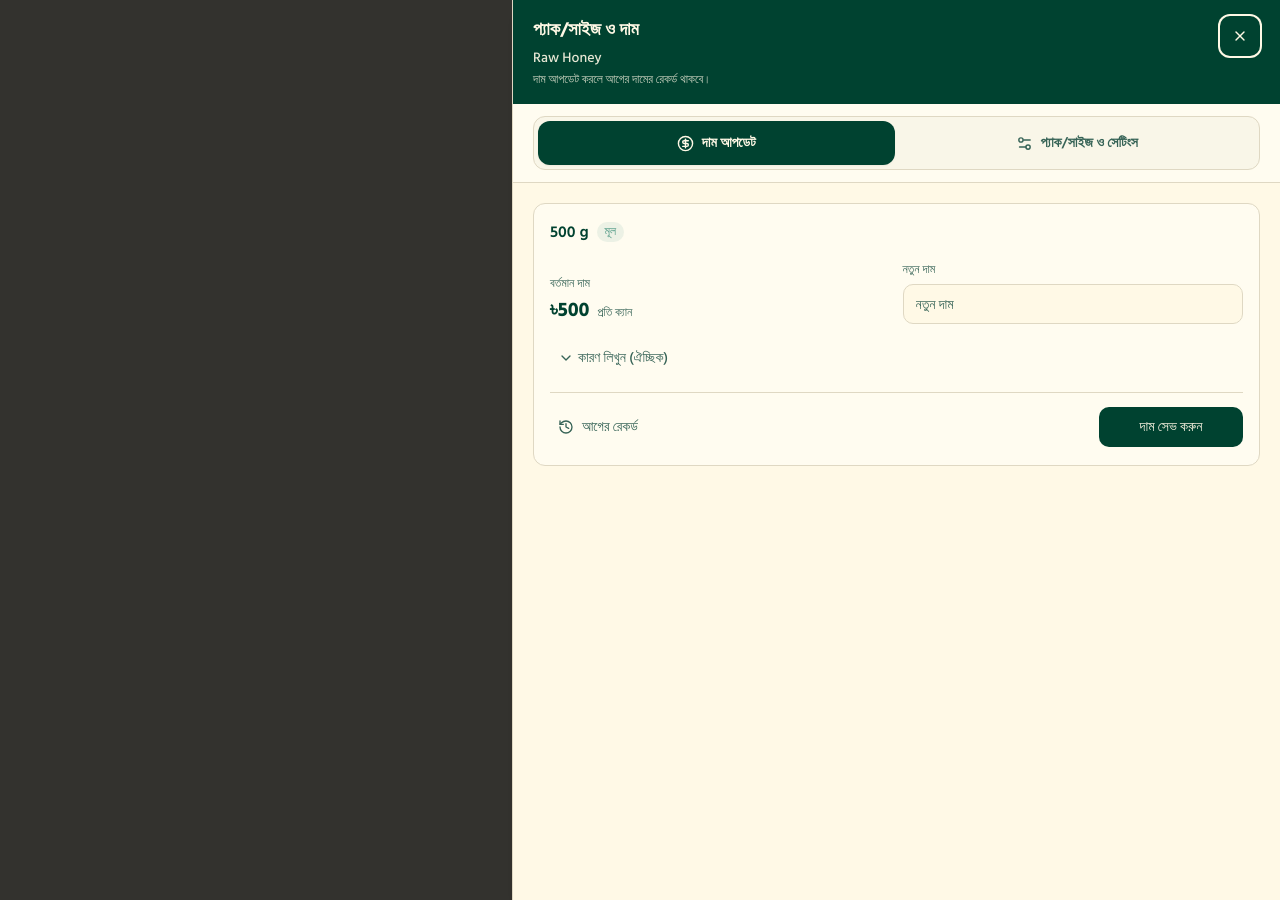
Test: price-first pack/size drawer › saves one selling price without loading history automatically
Type "550" into the number field labelled "নতুন দাম".
click(1073, 304); type("550")  # box [902,284,1243,324]
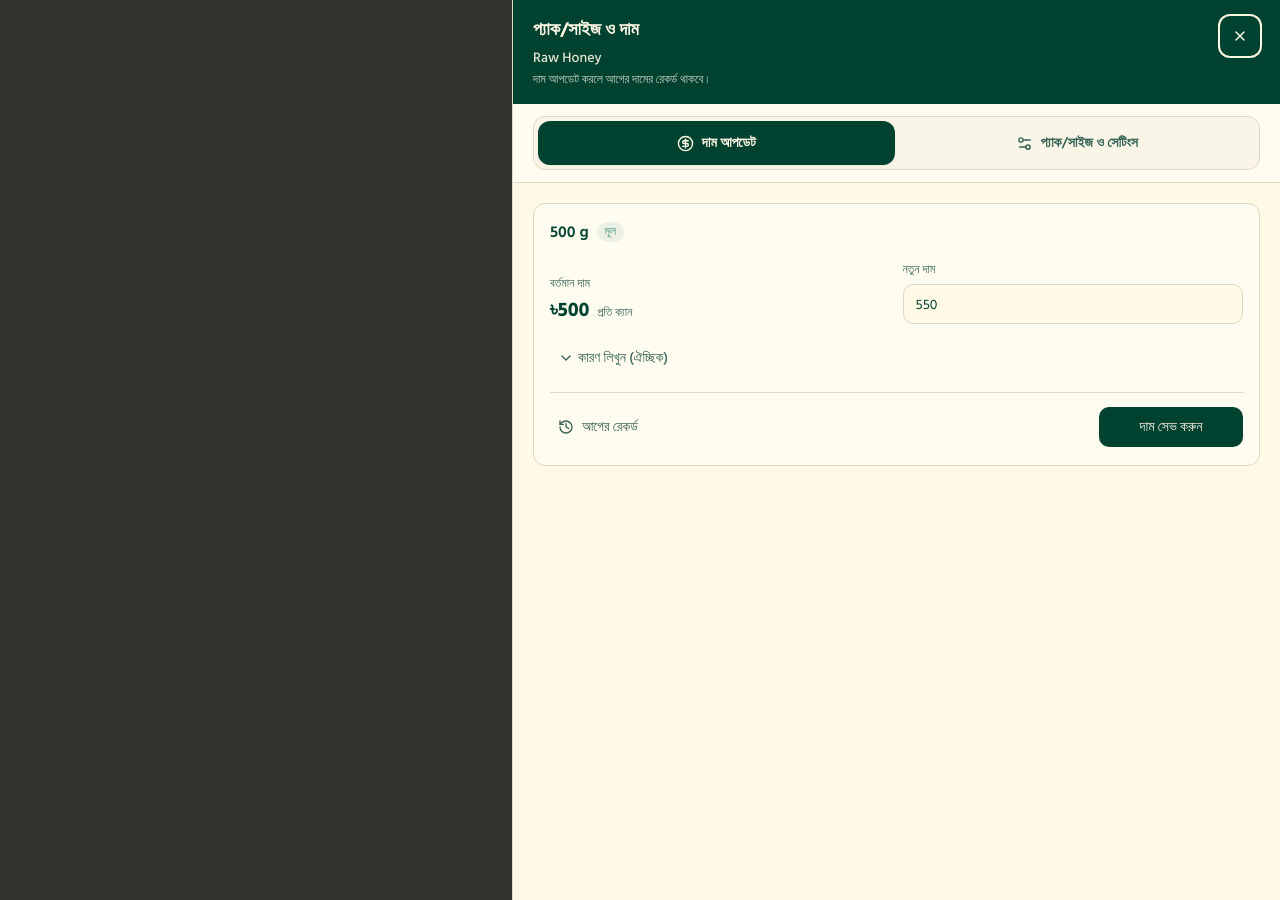
Click the button "দাম সেভ করুন".
click(1171, 427)  # box [1099,407,1243,447]
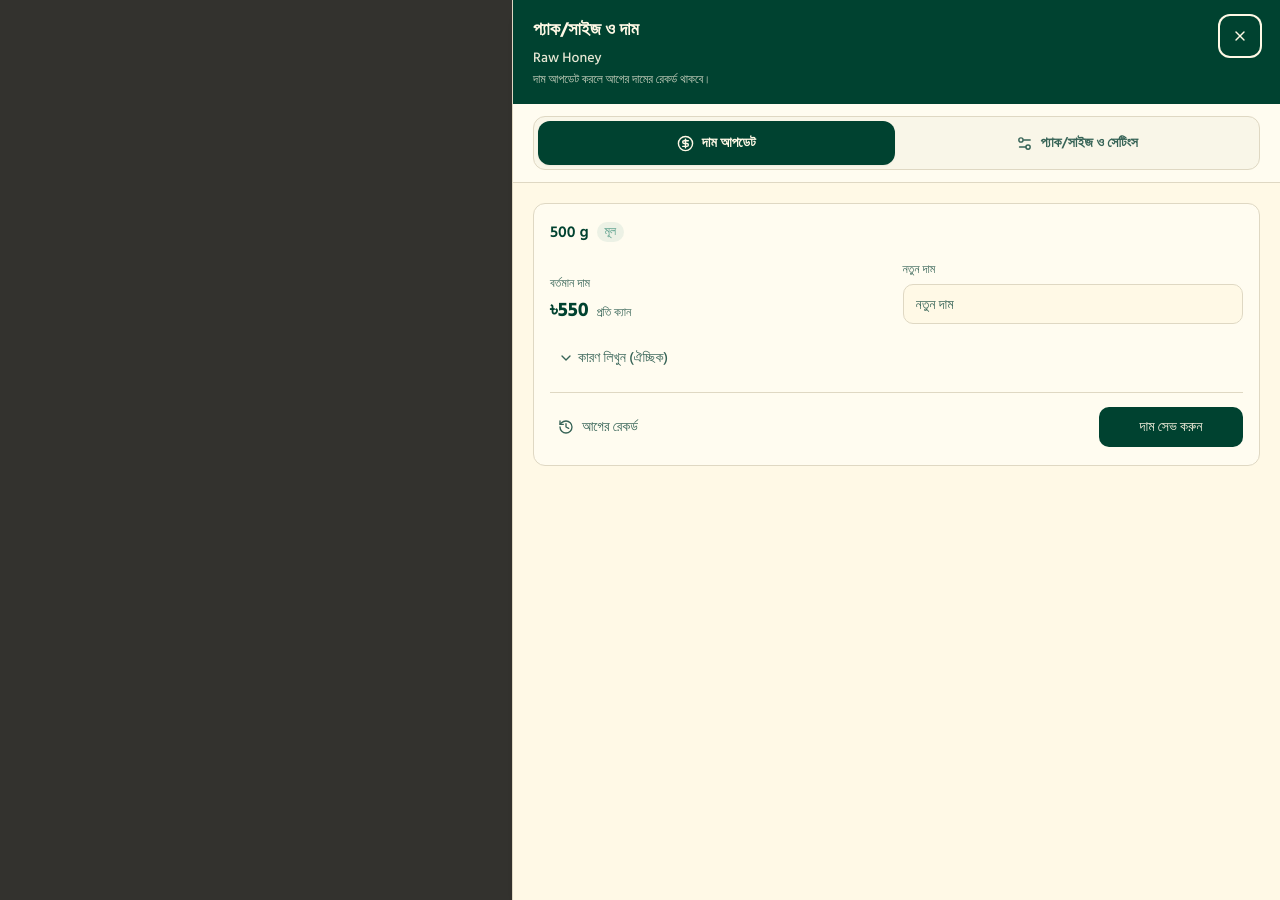
Expected: the text "৳550" is shown, [550,296,589,324]
Expected: the number field labelled "নতুন দাম" is not empty, [902,284,1243,324]
